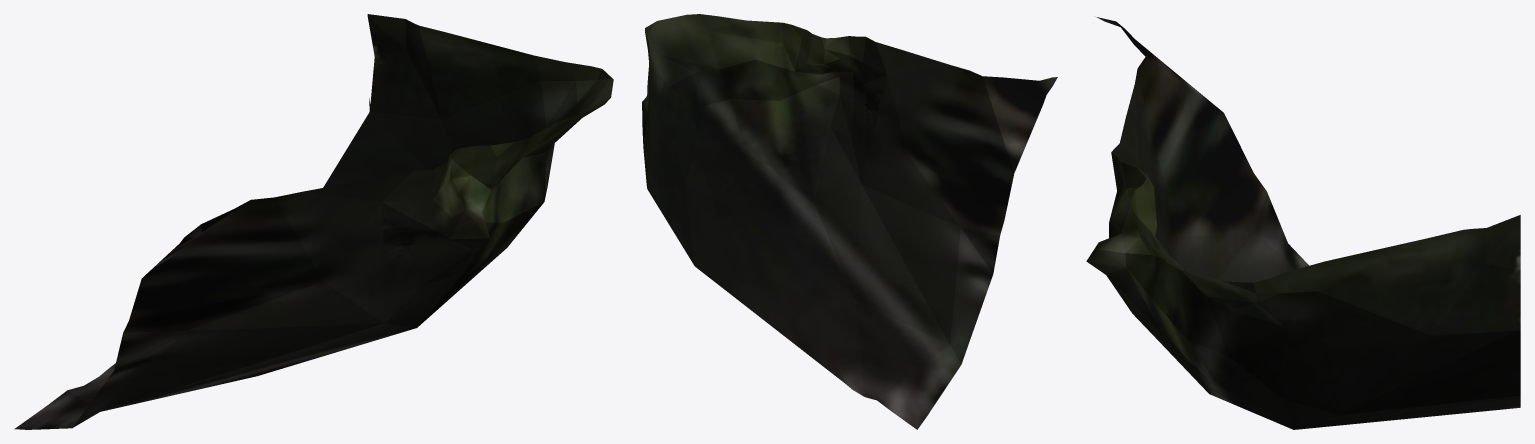
The picture shows the model from 3 angles, left to right: view 1: azimuth 30°, elevation 25°; view 2: azimuth 150°, elevation 25°; view 3: azimuth 270°, elevation 25°; orthographic projection. The views are drawn at different scales.
Size of the model in its own units: 0.532 by 0.3533 by 0.3634.
Materials: 1 (1 with a texture image).
